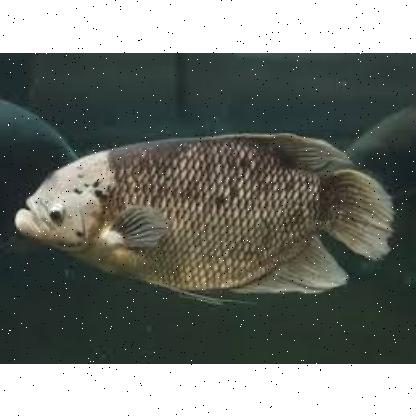gurame: (14, 132, 392, 300)
